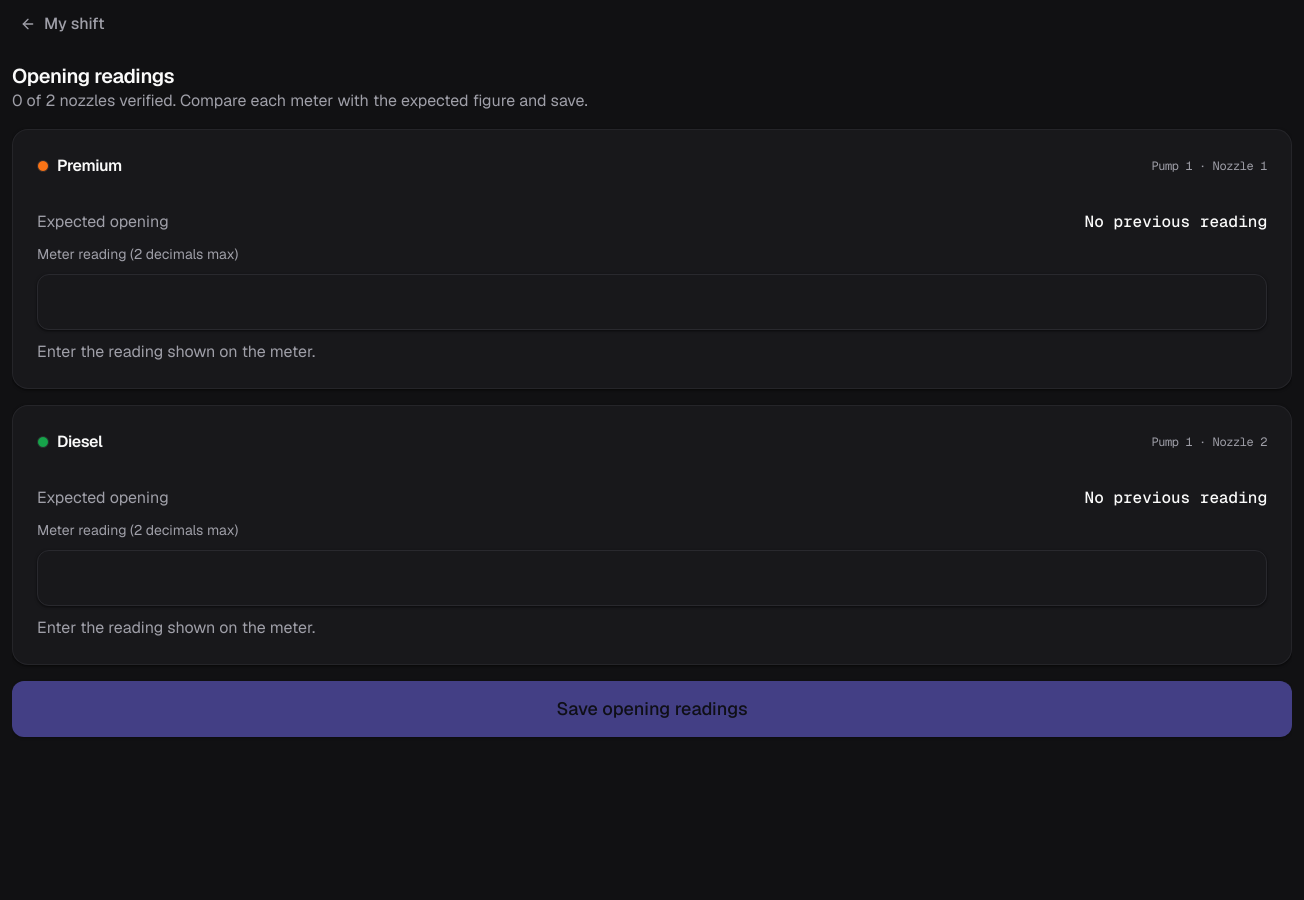
Test: OpeningReadingsPage › says "No previous reading" when the handover chain has no figure
The width and height of the screenshot is (1304, 900).
Expected: the text "No previous reading" is shown 2 times, [1085,210,1267,234]; [1085,486,1267,510]
In the field labelled "Meter reading (2 decimals max)" below "Premium": (652, 302) [37,274,1267,330], type "100"
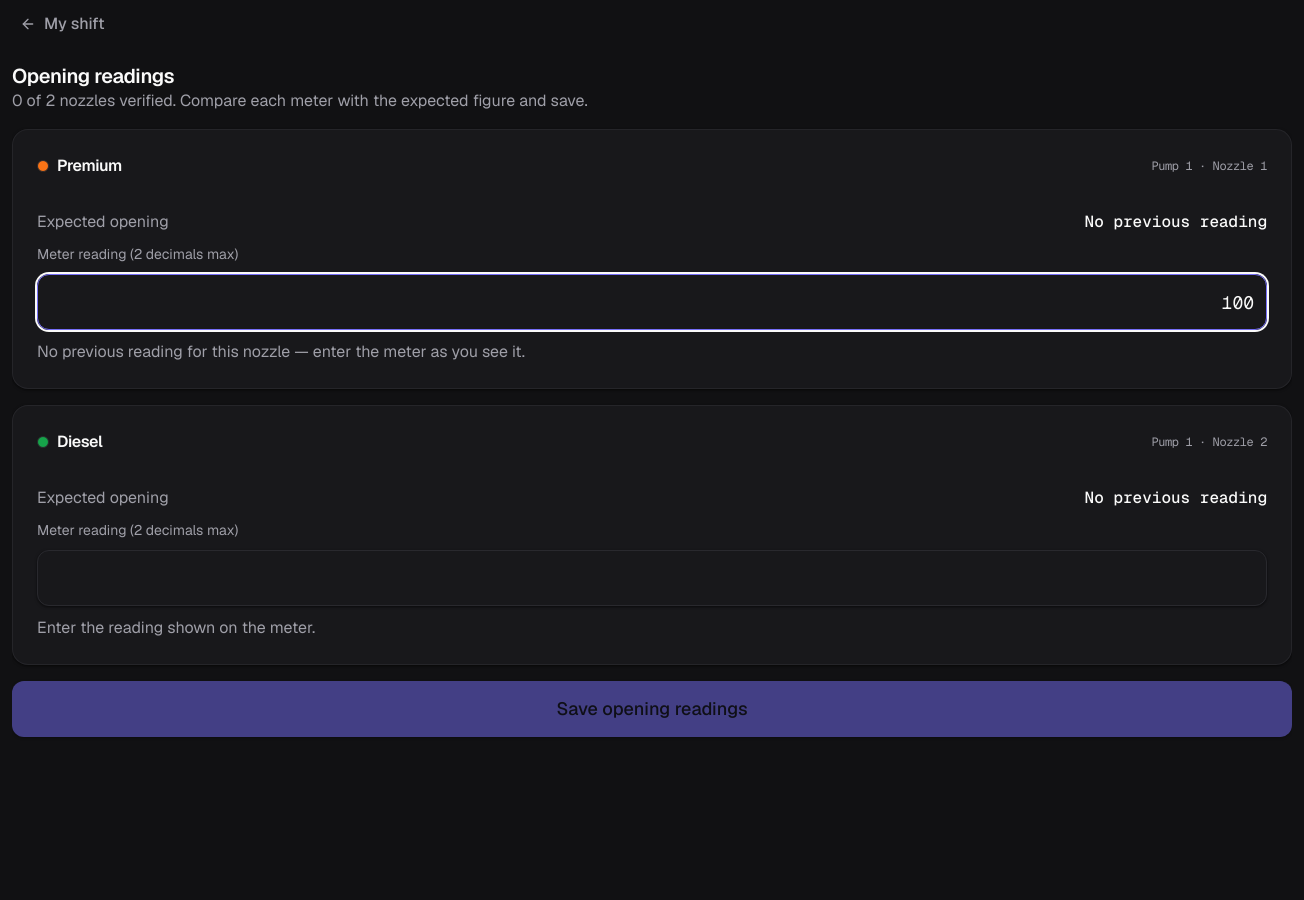
Expected: the text "No previous reading for this nozzle — enter the meter as you see it." is shown, [37,341,525,362]
